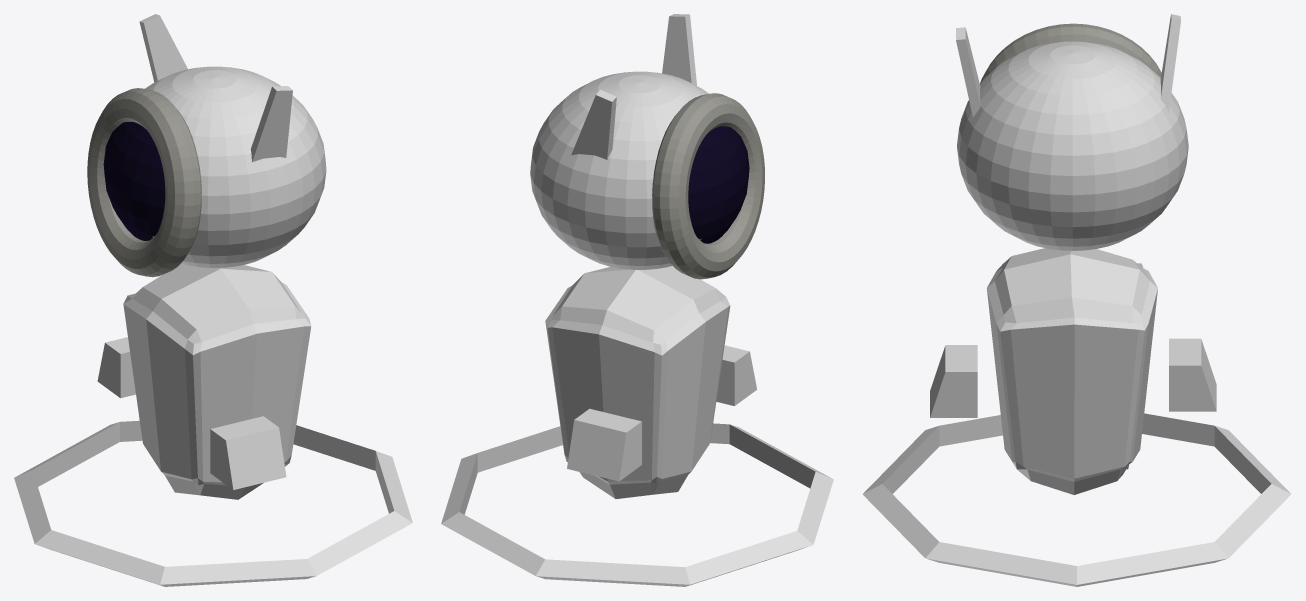
The model's file is FBX_MainCharacter.fbx.
The picture shows the model from 3 angles, left to right: view 1: azimuth 30°, elevation 25°; view 2: azimuth 150°, elevation 25°; view 3: azimuth 270°, elevation 25°; orthographic projection. The views are drawn at different scales.
Parts seen in each view (by area): view 1: MainCharacter; view 2: MainCharacter; view 3: MainCharacter.
Part boxes in pixels (x1=…): MainCharacter: x1=14, y1=14, x2=412, y2=586; MainCharacter: x1=441, y1=14, x2=833, y2=586; MainCharacter: x1=862, y1=14, x2=1291, y2=586.
Bounding box in the file's own units: 370 × 458 × 370.
